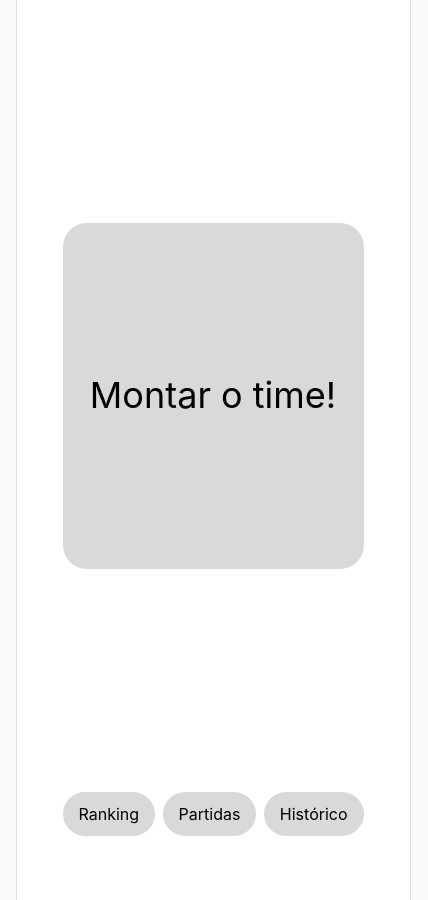
Scenario: US1.1 — Navegação do app (cenários BDD) › AC1.1.1: Given Home, When toco em Partidas, Then vejo "Quem veio hoje?"
Click the button with test id "home-matches-button": click(210, 814) [163,792,256,836]
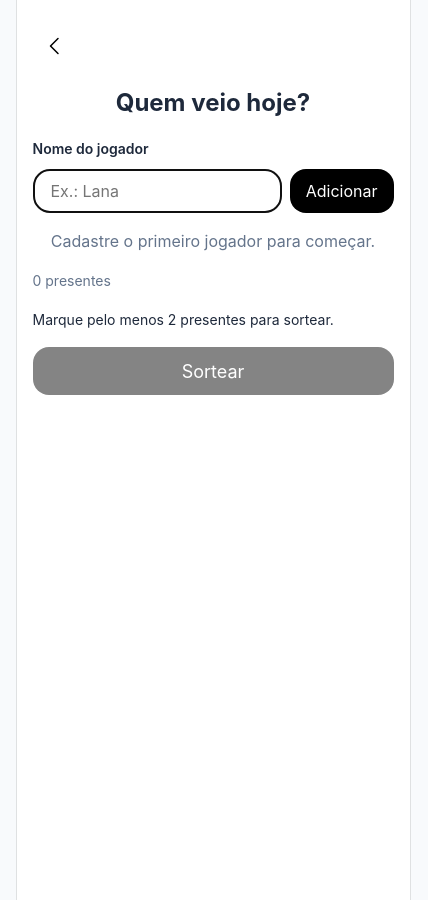
expect the heading "Quem veio hoje?" is shown: met, box [116,88,310,117]
